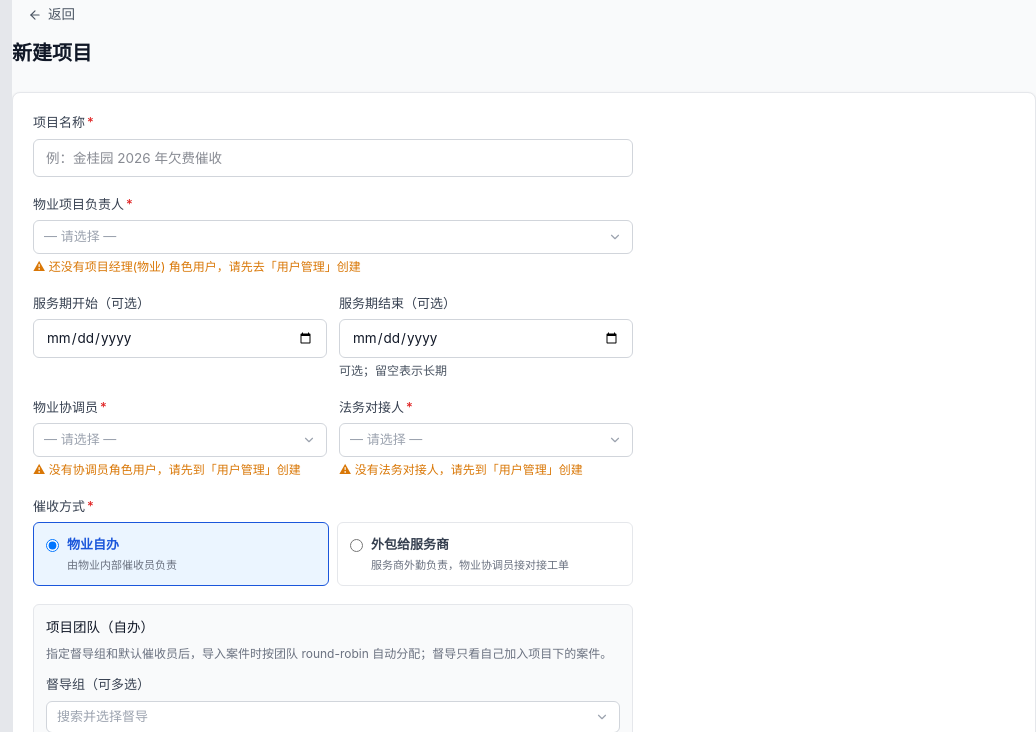
Test: 项目创建表单 — D2 服务商佣金率（外包模式） › 切到外包模式 → 显示服务商佣金率、隐藏内勤佣金率
Expected: the text "服务商佣金率" is not shown
Note: 切外包：内勤字段消失、服务商字段出现
Click the text "外包给服务商" at (410, 544), box left=371, top=536, right=449, bottom=552
(page scrolled)
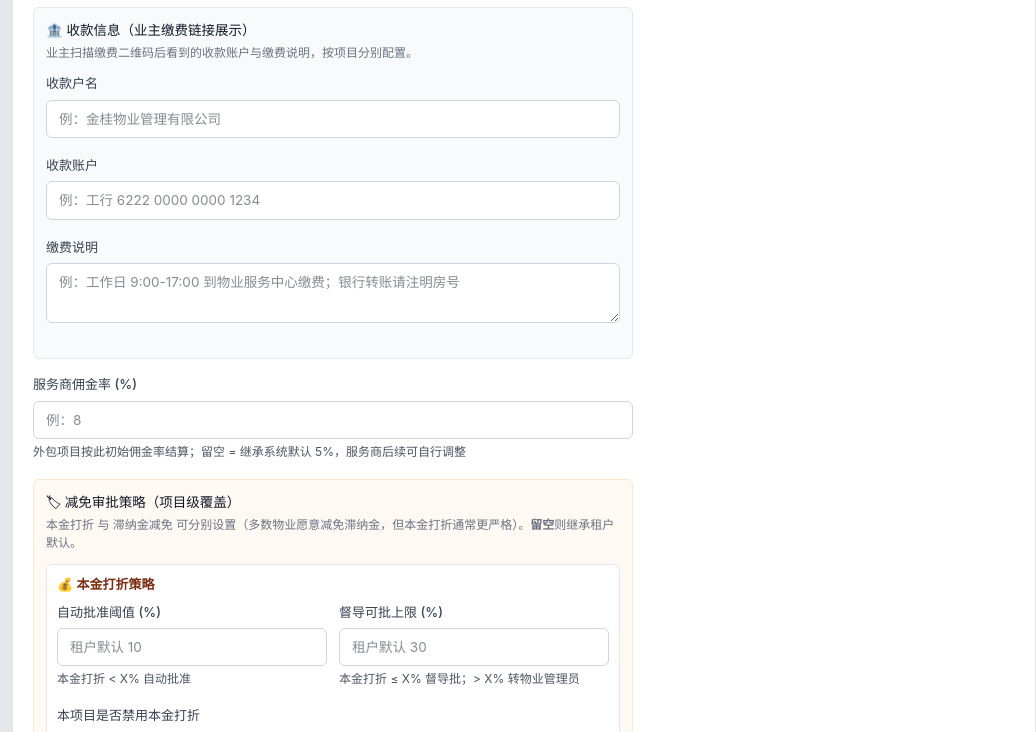
Now the text "服务商佣金率 (%)" is shown, box left=33, top=376, right=137, bottom=392
